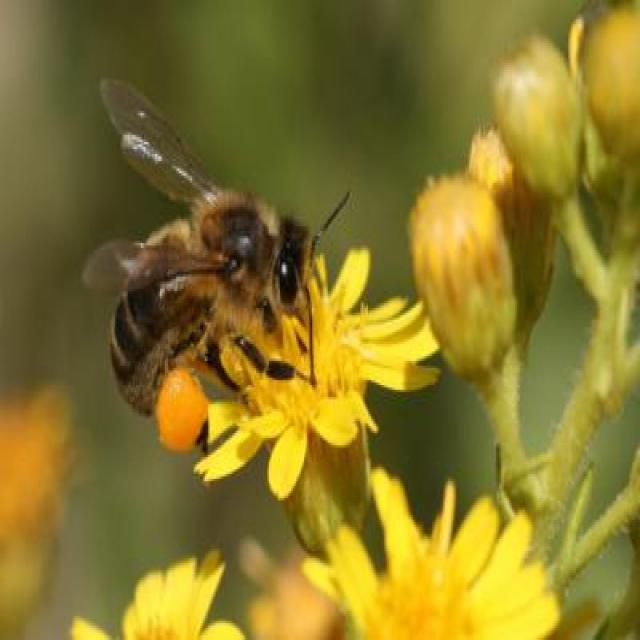antennae: (308, 188, 352, 270), (301, 284, 319, 391)
body: (107, 198, 319, 426)
insect: (78, 73, 357, 461)
legs: (229, 329, 311, 388), (192, 328, 250, 404)
wings: (100, 76, 231, 212), (83, 235, 238, 298)
